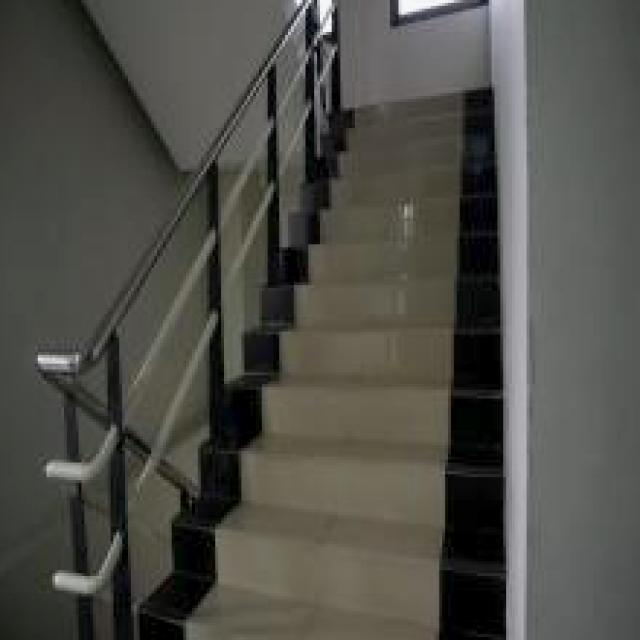upstair: (345, 94, 499, 640)
